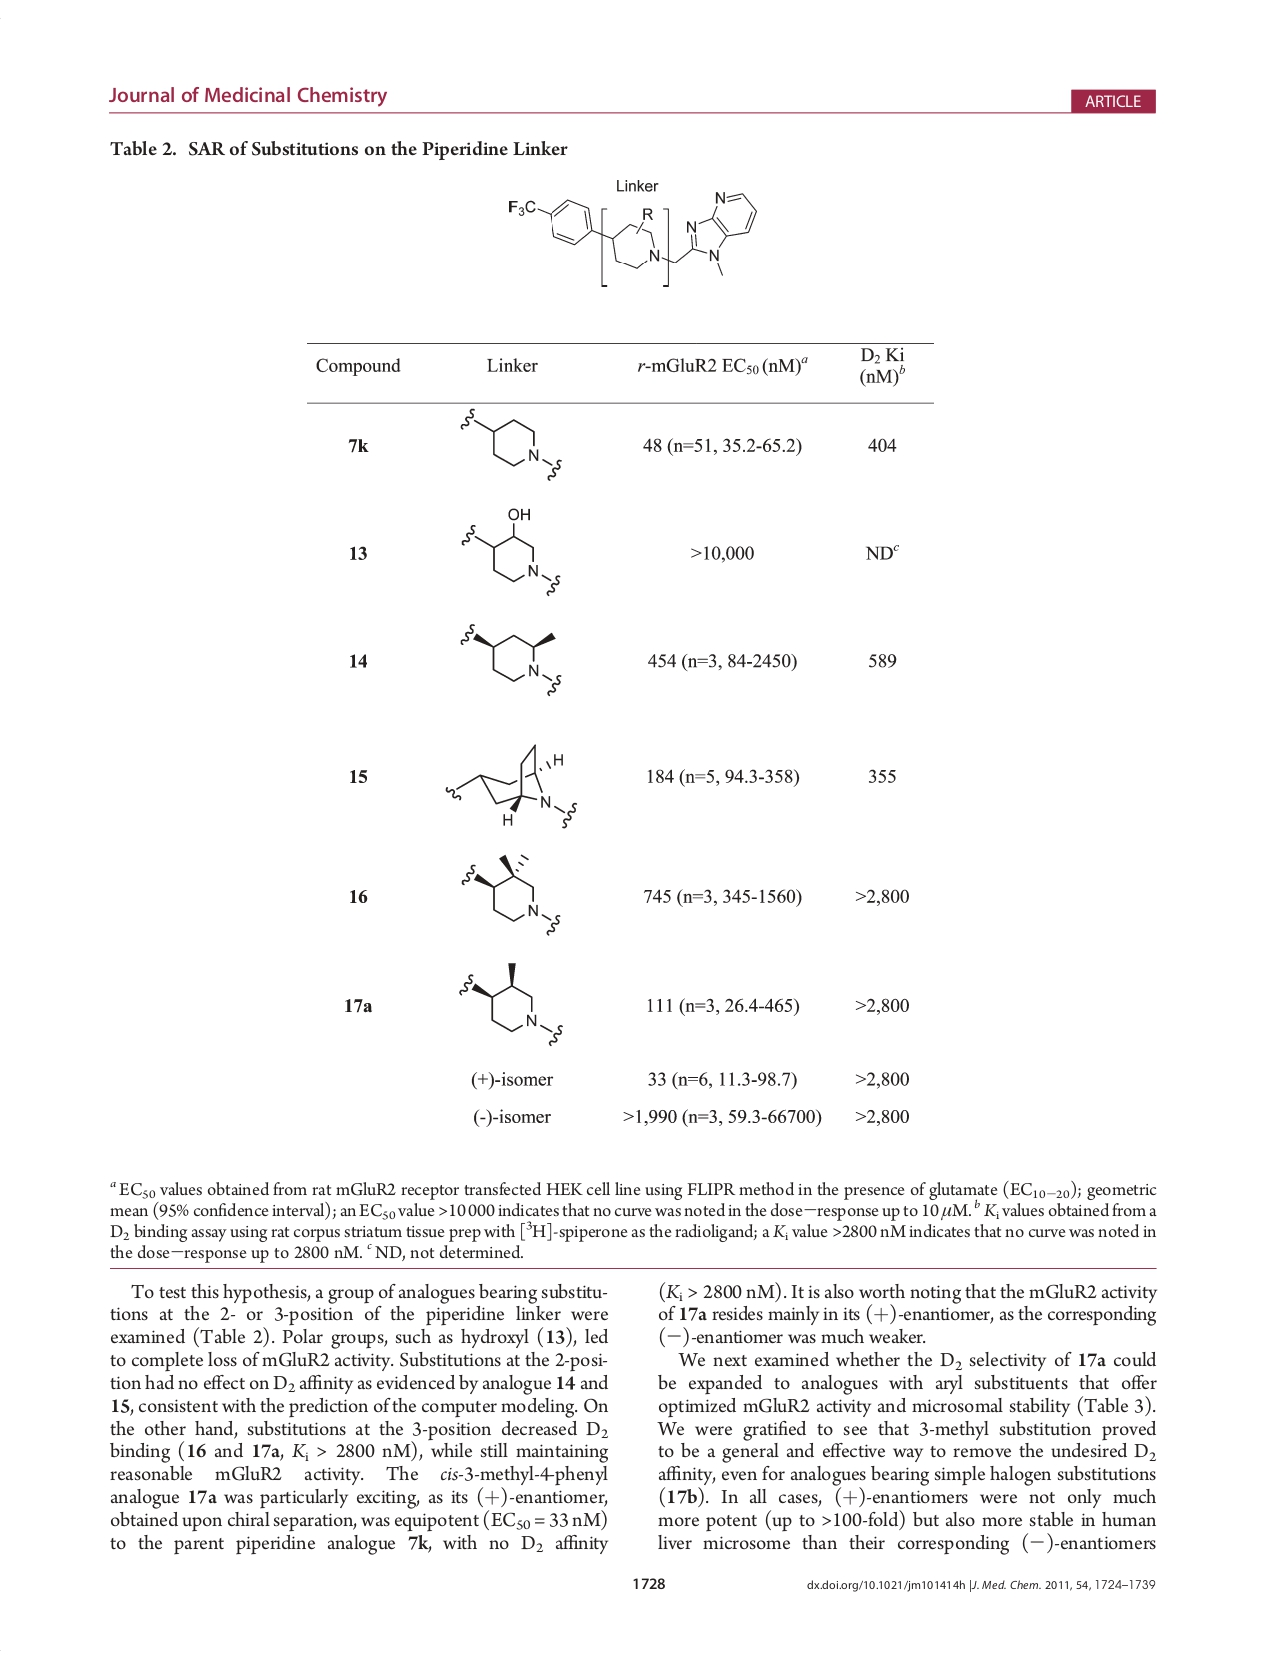exist_molecular: (503, 188, 758, 291), (440, 743, 582, 833), (456, 847, 569, 939), (457, 504, 567, 597), (457, 959, 567, 1048), (459, 616, 565, 697), (457, 406, 568, 481)
